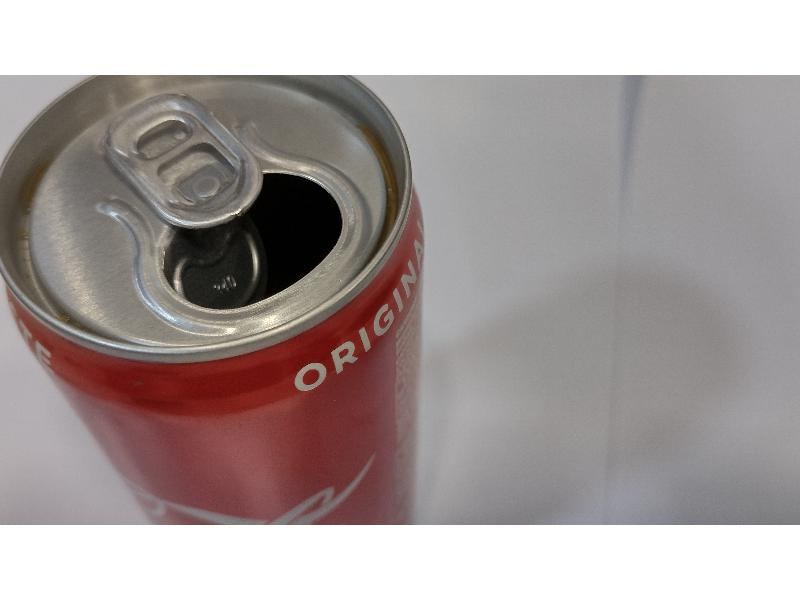can: (0, 75, 448, 520)
